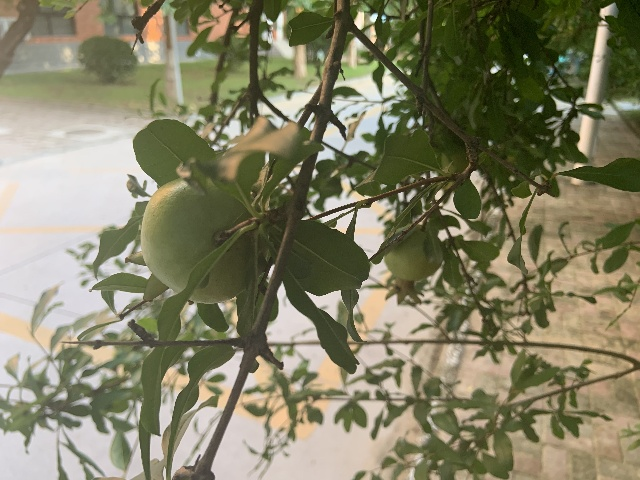mid-growth: (124, 178, 246, 304), (384, 223, 442, 305)
